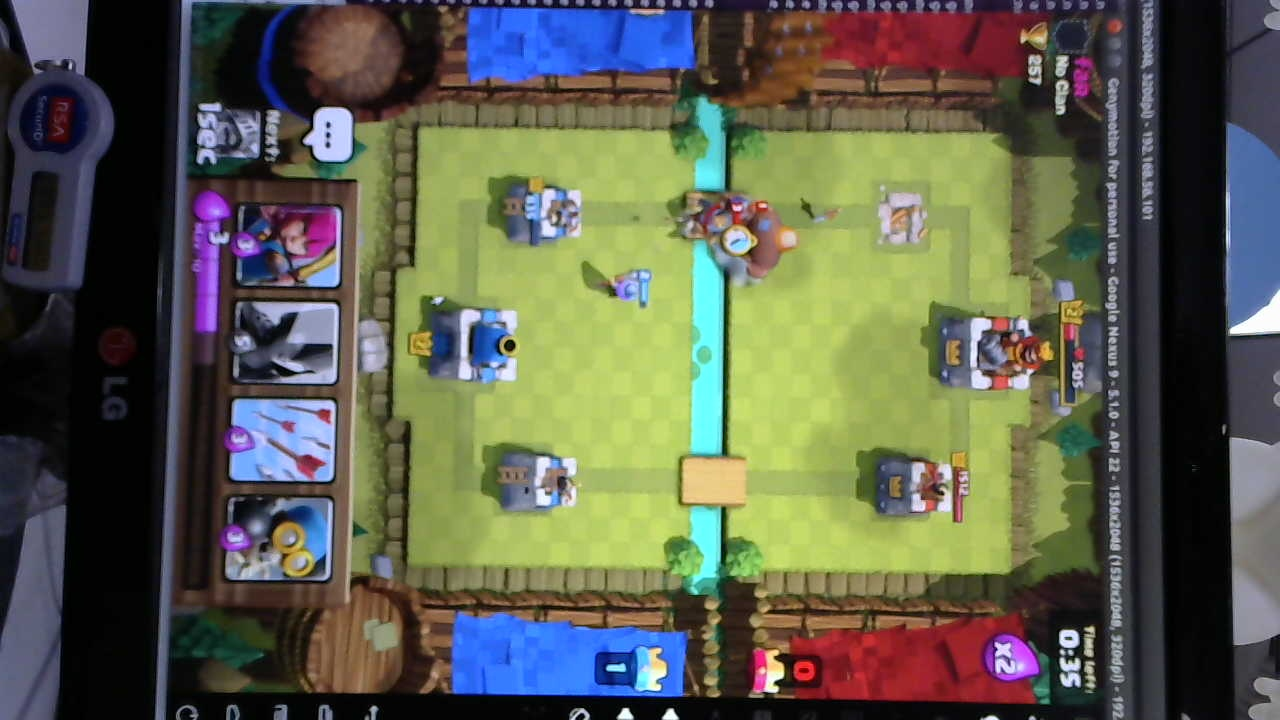arena: (494, 447, 581, 519), (505, 181, 586, 247)
darena: (873, 182, 928, 252)
earena: (873, 451, 957, 524)
eking: (943, 314, 1048, 392)
giant: (739, 195, 792, 272)
king: (426, 299, 521, 388)
knight: (689, 202, 735, 247)
musketeer: (599, 269, 645, 305)
